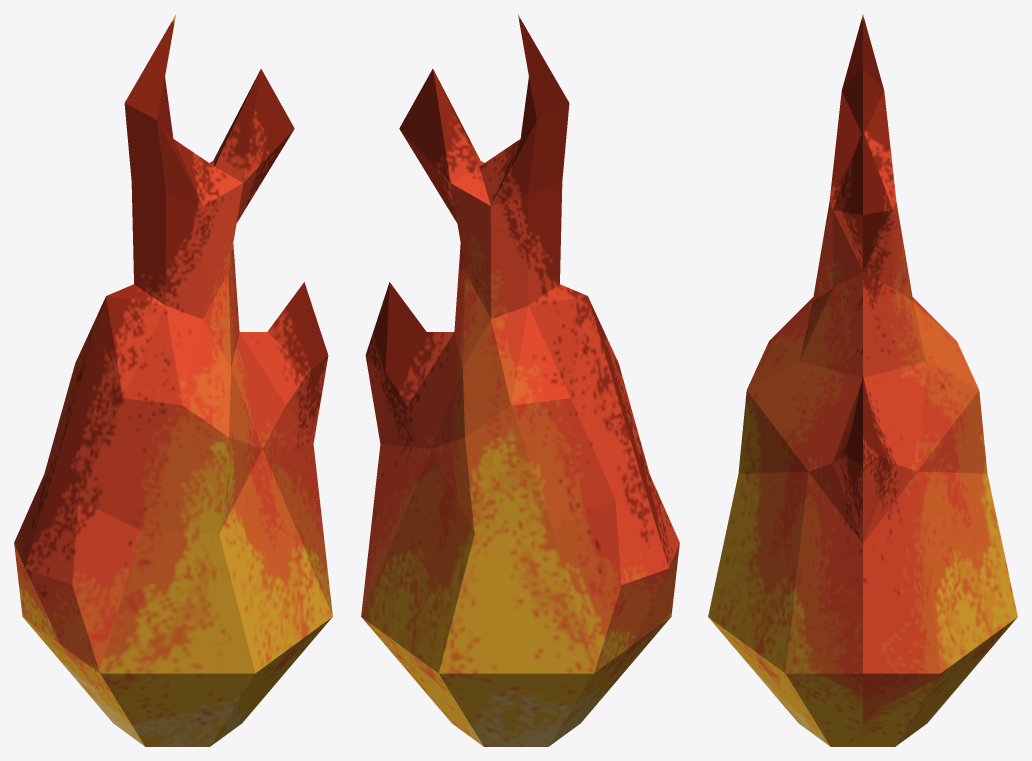
Rendered from Flame3.fbx.
3 renders of one model, left to right at view 1: azimuth 30°, elevation 25°; view 2: azimuth 150°, elevation 25°; view 3: azimuth 270°, elevation 25°, orthographic.
Visible parts, largest first — view 1: Flame 3; view 2: Flame 3; view 3: Flame 3.
Part boxes in pixels (left/top/right/bottom): Flame 3: left=14, top=14, right=332, bottom=746; Flame 3: left=361, top=14, right=679, bottom=746; Flame 3: left=708, top=15, right=1017, bottom=746.
Size of the model in its own units: 18.59 by 41.58 by 16.48.
Materials: 1 (1 with a texture image).
